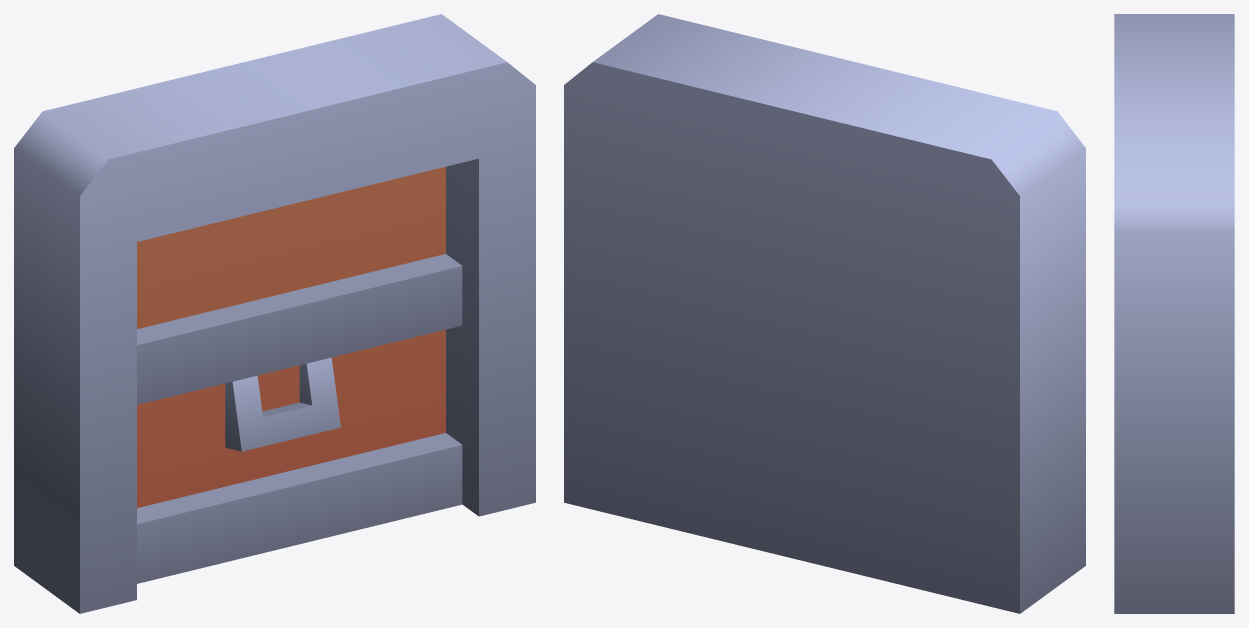
3 views of the same model, side by side, from view 1: azimuth 30°, elevation 25°; view 2: azimuth 150°, elevation 25°; view 3: azimuth 270°, elevation 25° (orthographic). The views are drawn at different scales.
Parts seen in each view (by area): view 1: door; view 2: door; view 3: door.
Boxes of the visible parts, x1,y1,x2,y2 form: door: (14, 14, 535, 613); door: (564, 14, 1085, 613); door: (1114, 14, 1234, 613).
Size of the model in its own units: 0.8 by 0.75 by 0.2.
1 material, 1 textured.
